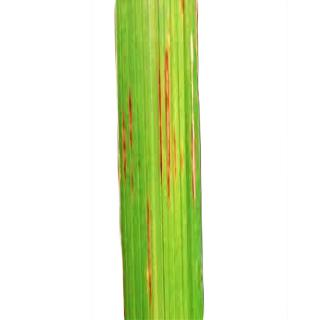Bercak-Cokelat-Sempit: (154, 30, 184, 206), (118, 87, 136, 198), (144, 196, 156, 310), (189, 109, 198, 207), (194, 1, 202, 44), (180, 2, 186, 19)
